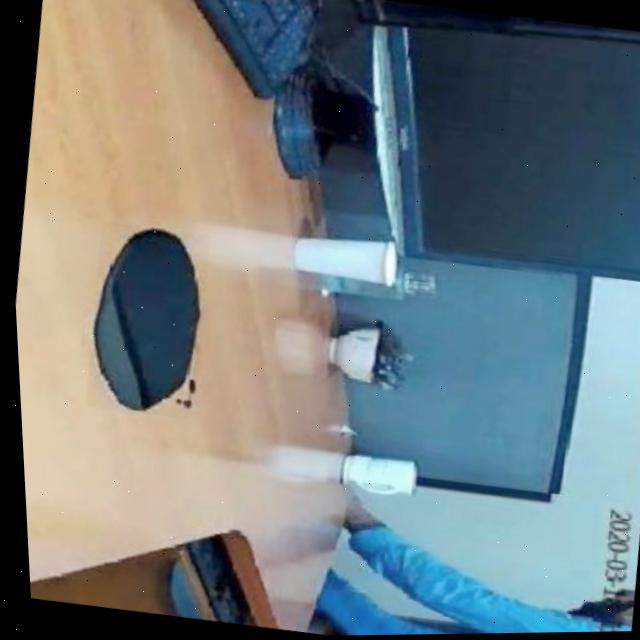spillage: (86, 230, 196, 414)
